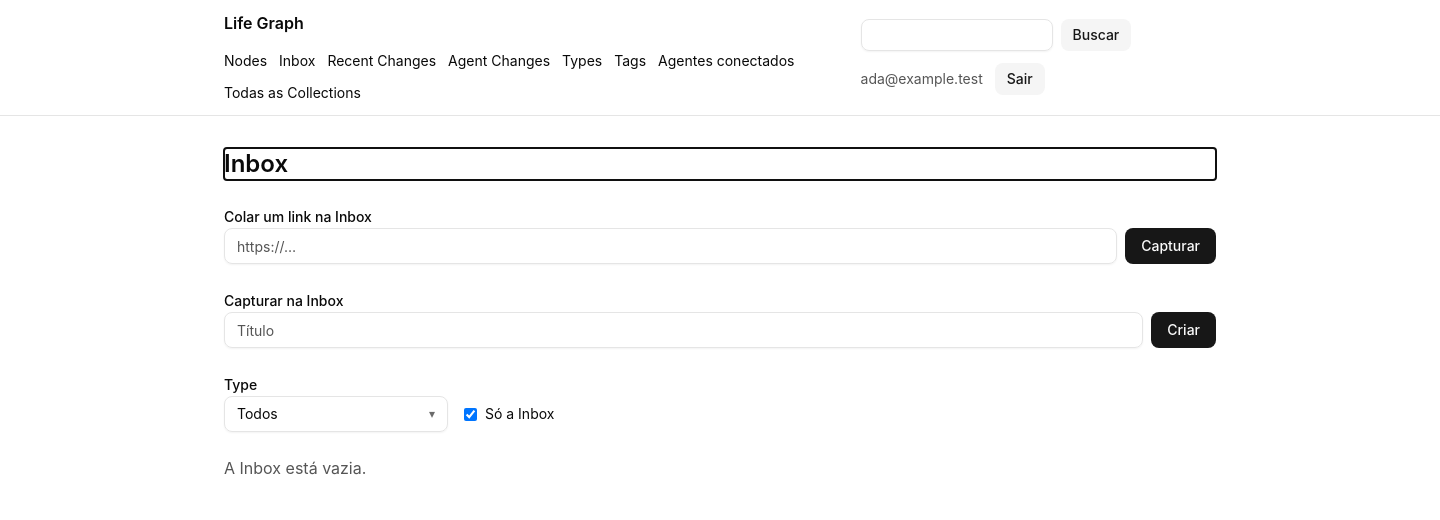
Test case: capture by paste › says what a known link did: {"created":false,"alreadyExists":true,"alreadyInInbox":false}
Type "https://example.test/article?id=7" into the field labelled "Colar um link na Inbox" at (671, 246), box [224,228,1117,264]
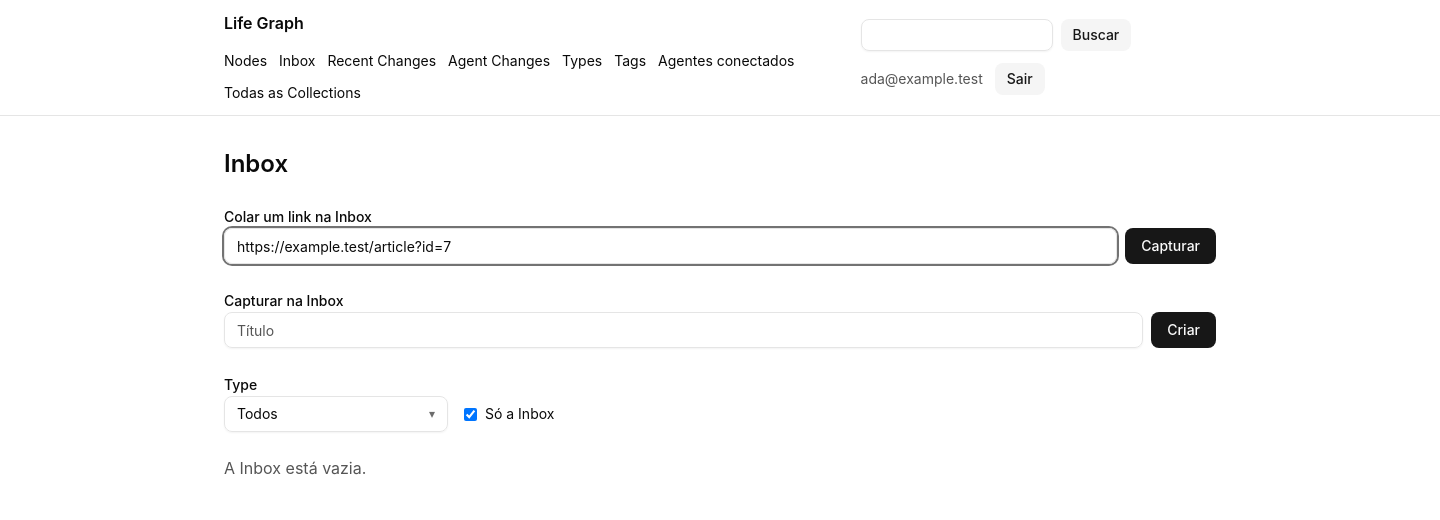
Click the button "Capturar" at (1171, 246), box [1125,228,1216,264]
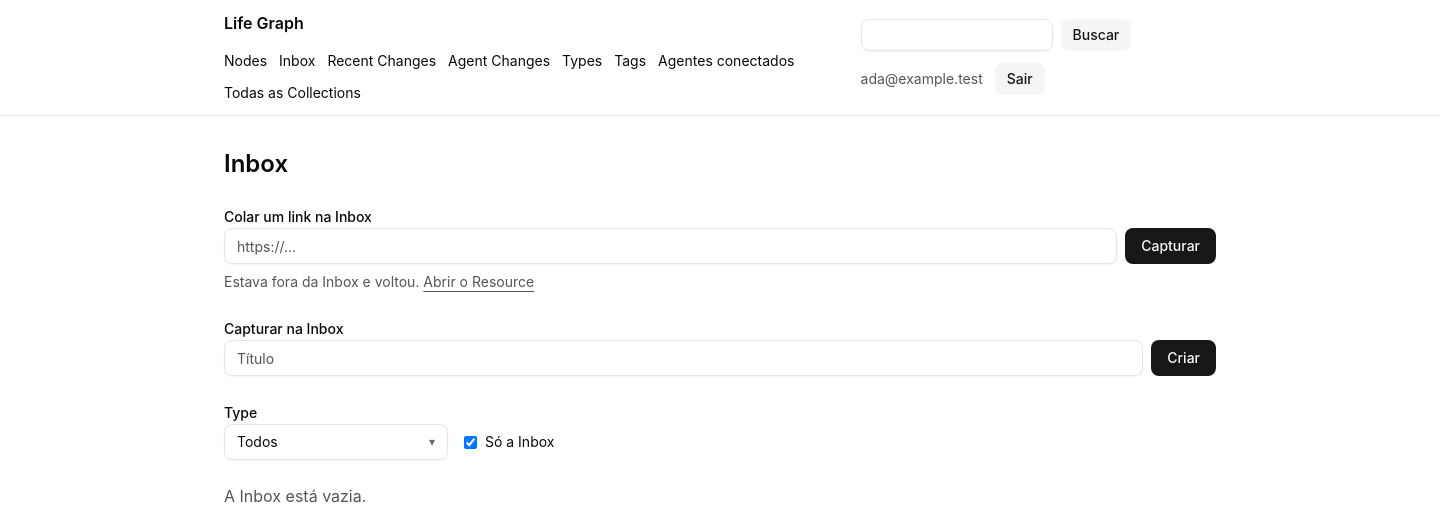
expect the message shows "Estava fora da Inbox e voltou.": met, box [224,273,419,290]
